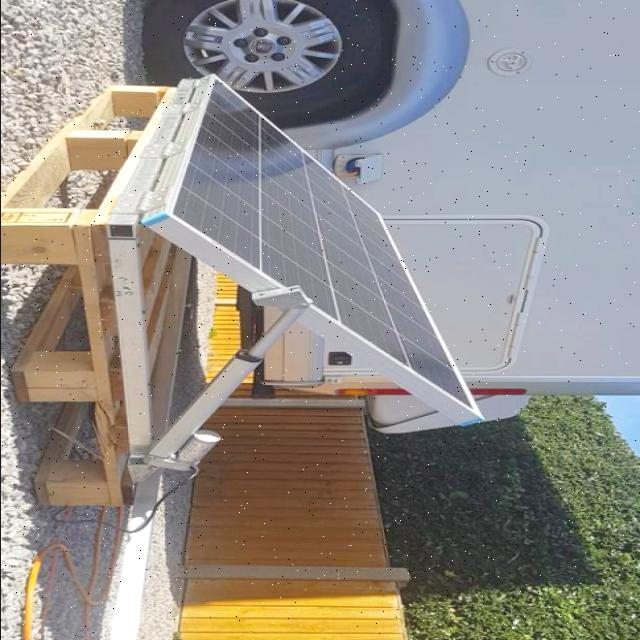Normal Solar Panel: (159, 75, 475, 418)
